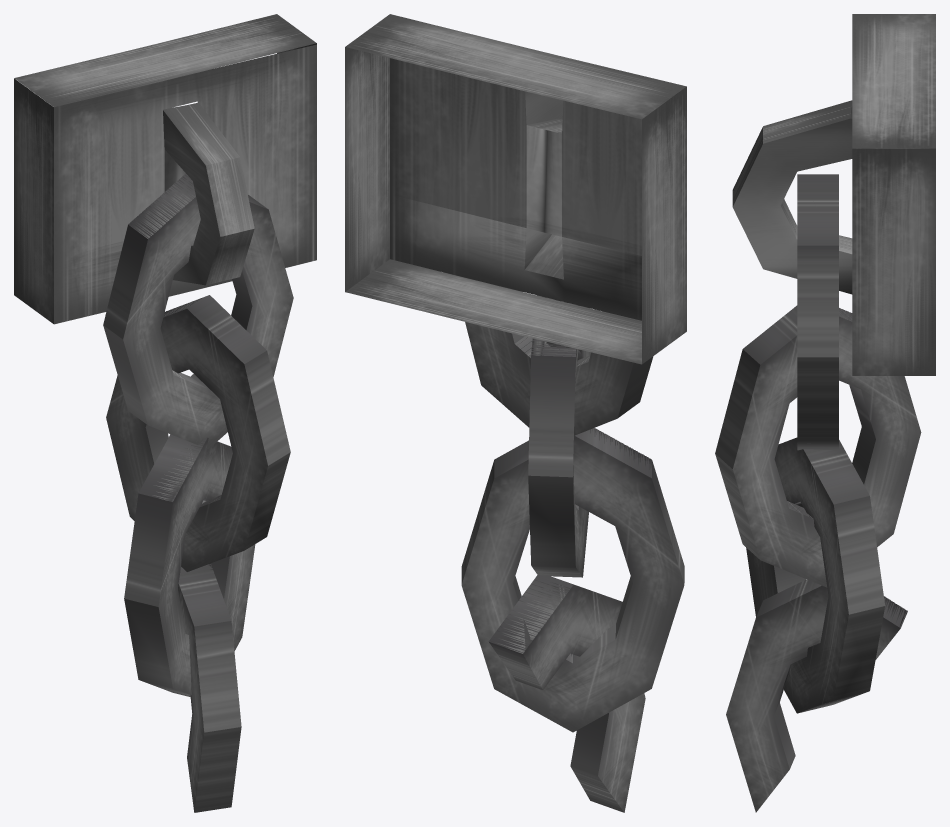
Rendered from chains2.FBX.
The picture shows the model from 3 angles, left to right: view 1: azimuth 30°, elevation 25°; view 2: azimuth 150°, elevation 25°; view 3: azimuth 270°, elevation 25°; orthographic projection. The views are drawn at different scales.
Visible parts, largest first — view 1: Box003; view 2: Box003; view 3: Box003.
Part boxes in pixels (x1,y1,x2,y2): Box003: [14, 14, 316, 812]; Box003: [345, 14, 686, 812]; Box003: [715, 14, 935, 812].
Bounding box in the file's own units: 0.2893 × 0.7344 × 0.2009.
